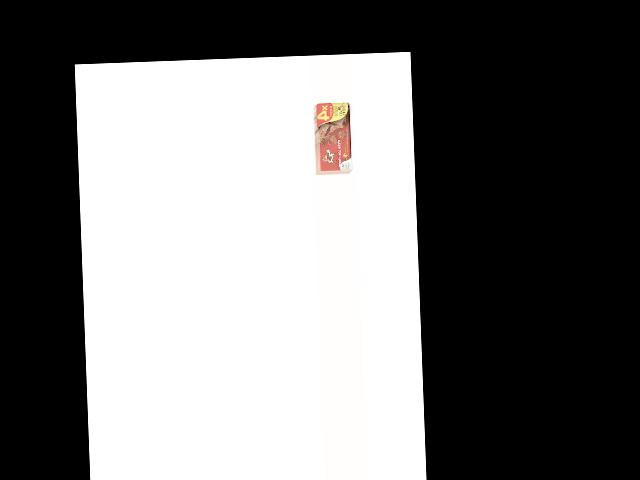chocolate: (313, 101, 354, 173)
